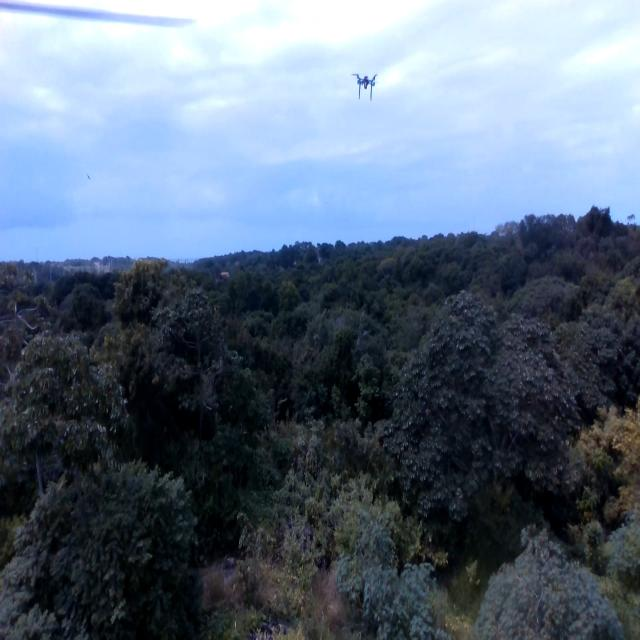-uav-: (344, 54, 384, 121)
